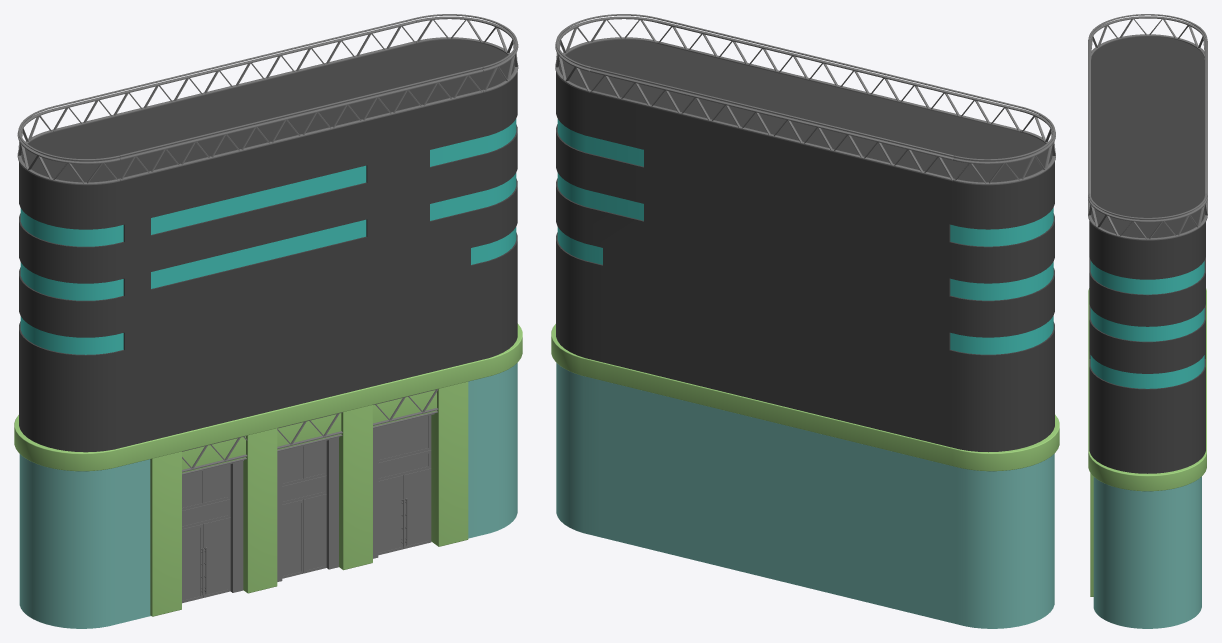
The model's file is SM_building_rounded_01.fbx.
3 views of the same model, side by side, from view 1: azimuth 30°, elevation 25°; view 2: azimuth 150°, elevation 25°; view 3: azimuth 270°, elevation 25° (orthographic). The views are drawn at different scales.
Parts seen in each view (by area): view 1: Object32286; view 2: Object32286; view 3: Object32286.
Boxes of the visible parts, x1,y1,x2,y2 form: Object32286: (14,14,522,628); Object32286: (551,14,1059,628); Object32286: (1088,14,1207,628).
Size of the model in its own units: 722 by 661 by 175.
